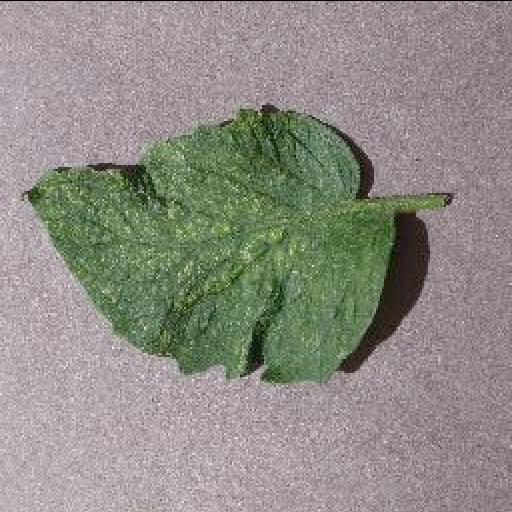disease_tomato: (14, 104, 396, 386)
